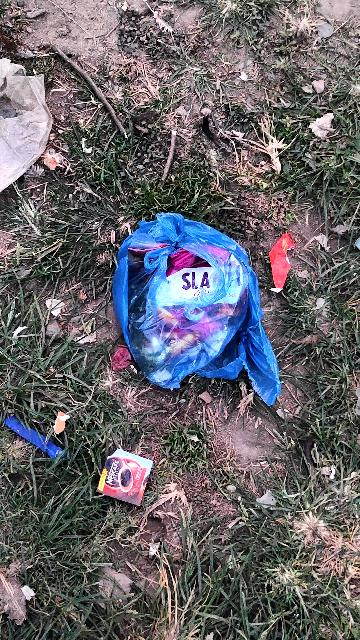polythene: (117, 190, 275, 403)
